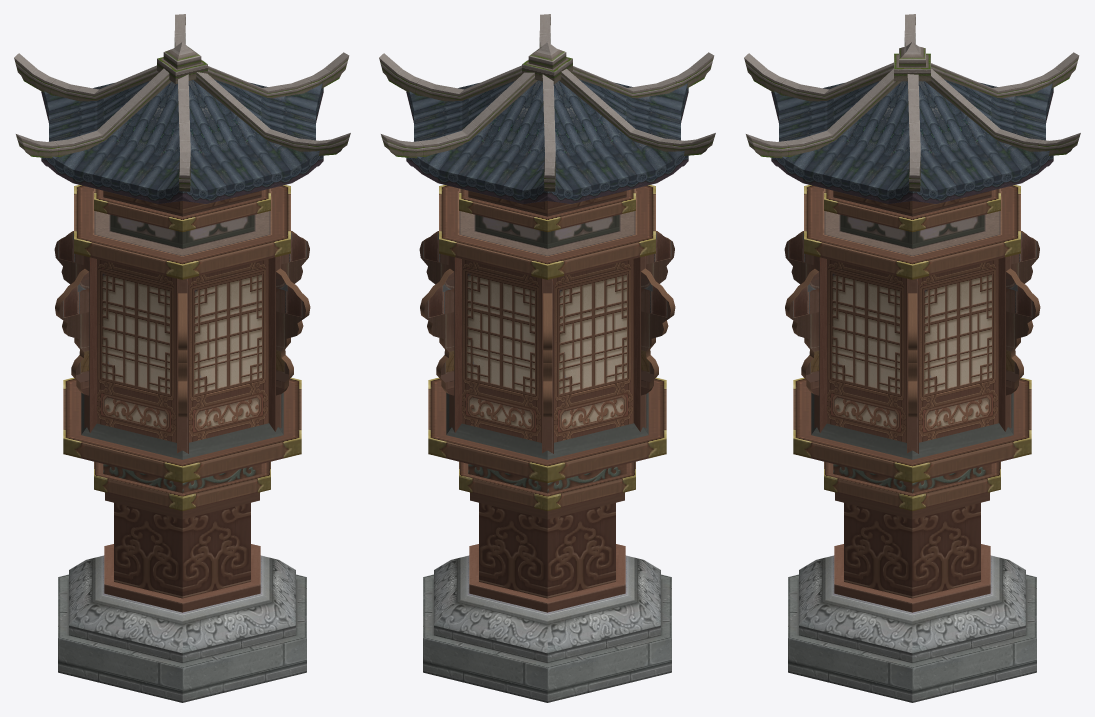
File: BH04_dideng_02.FBX
The picture shows the model from 3 angles, left to right: view 1: azimuth 30°, elevation 25°; view 2: azimuth 150°, elevation 25°; view 3: azimuth 270°, elevation 25°; orthographic projection.
Parts seen in each view (by area): view 1: BH04_dideng_02; view 2: BH04_dideng_02; view 3: BH04_dideng_02.
Part boxes in pixels (x1,y1,x2,y2): BH04_dideng_02: (14, 14, 350, 702); BH04_dideng_02: (379, 14, 715, 702); BH04_dideng_02: (744, 14, 1080, 702).
Bounding box in the file's own units: 287 × 253 × 498.
